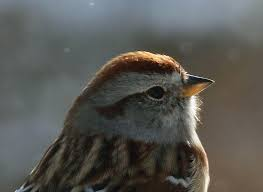hsparrow: (7, 49, 229, 192)
